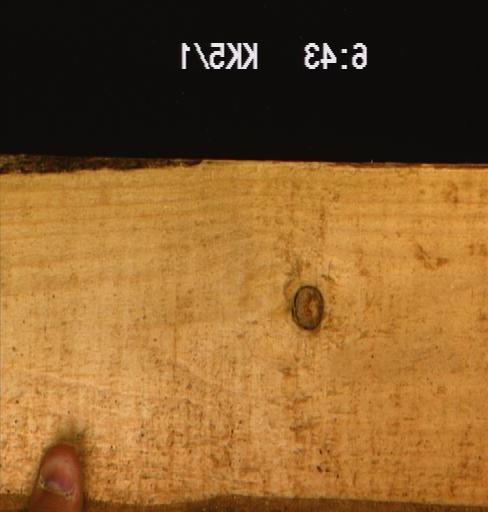dry_knot: (291, 283, 326, 332)
wave: (0, 153, 486, 172), (83, 492, 486, 511)
